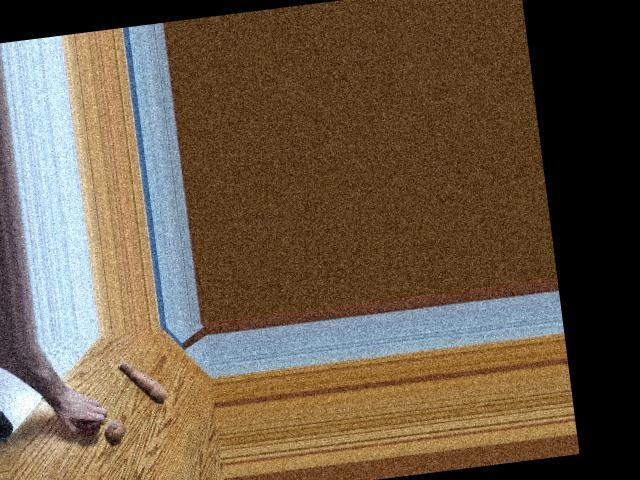onion: (77, 416, 101, 435)
